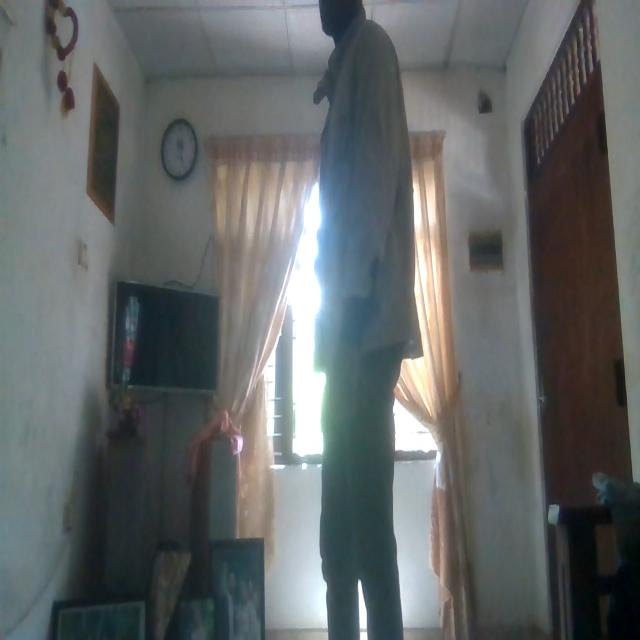Jacket_Wearer: (303, 26, 419, 362)
Person: (305, 0, 423, 640)
